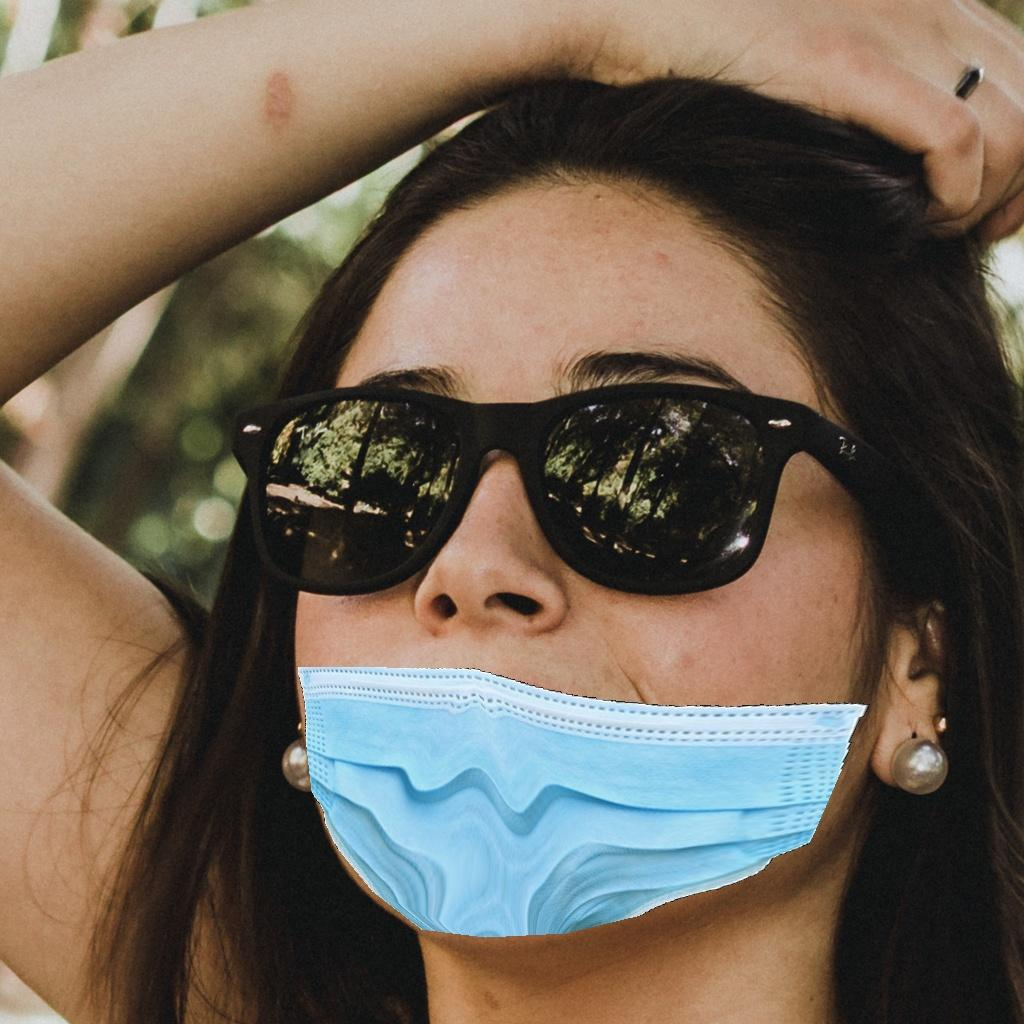Máscara Incorreta: (247, 270, 865, 935)
